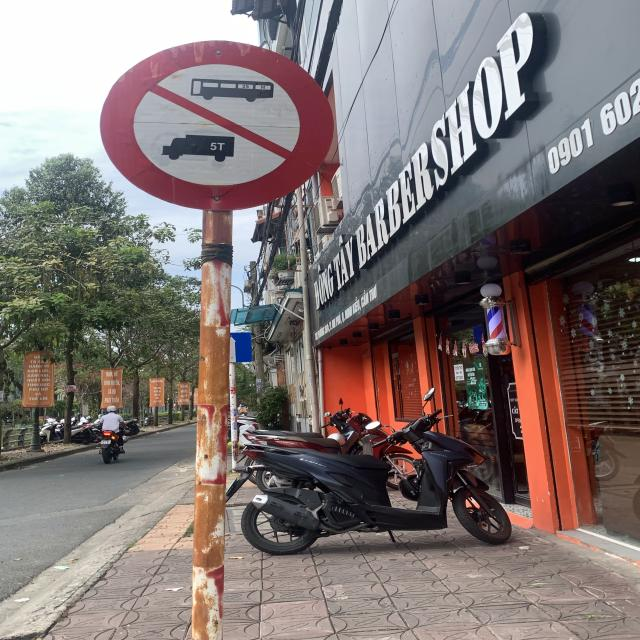Cam_XeTai_XeKhach: (99, 40, 335, 212)
